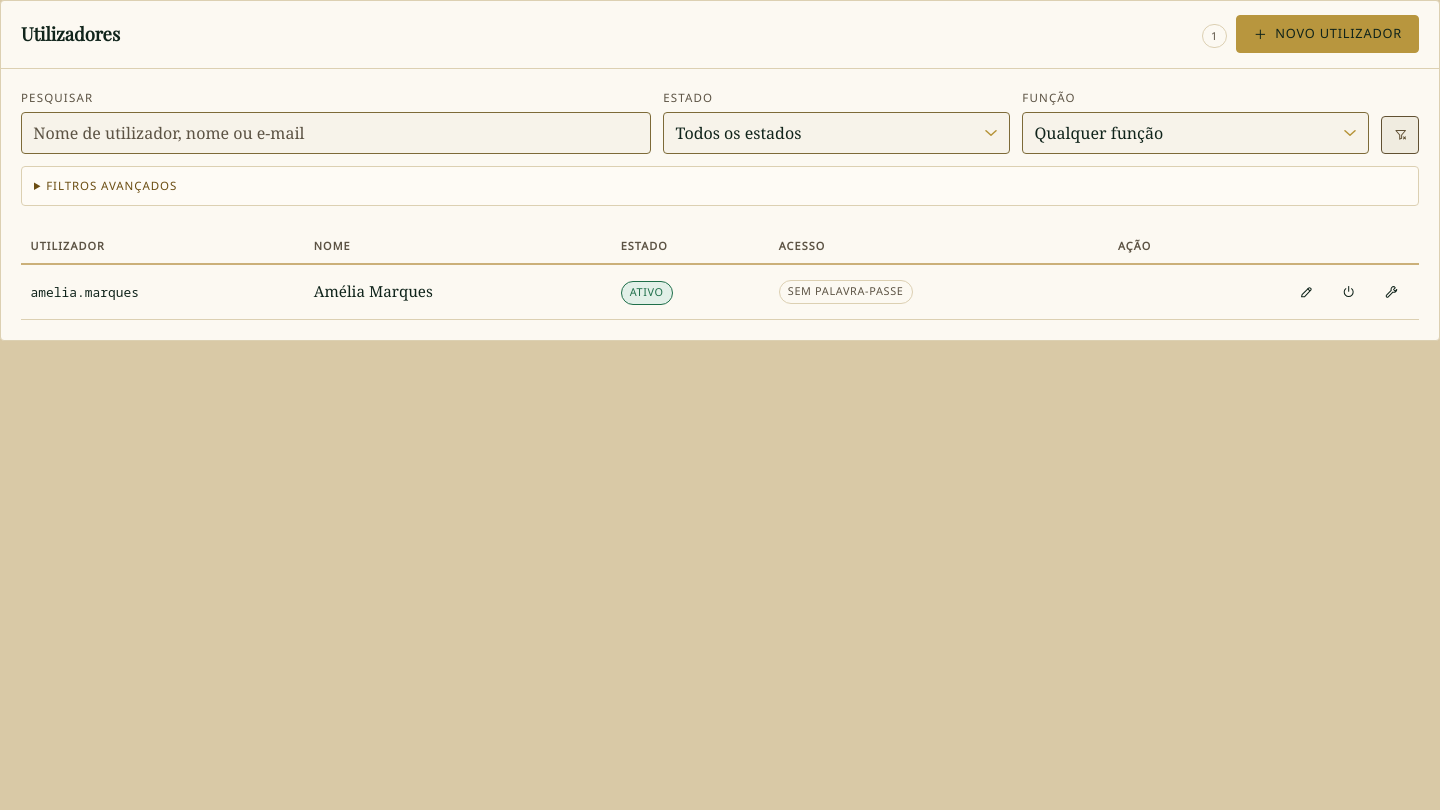
Test case: UsersList (Configurações → Utilizadores) › takes its strictness from the server policy rather than a hardcoded verdict
Expected: the text "amelia.marques" is shown, [31,283,139,301]
Click the button with test id "user-toggle-active" at (1349, 292), box [1331,274,1367,310]
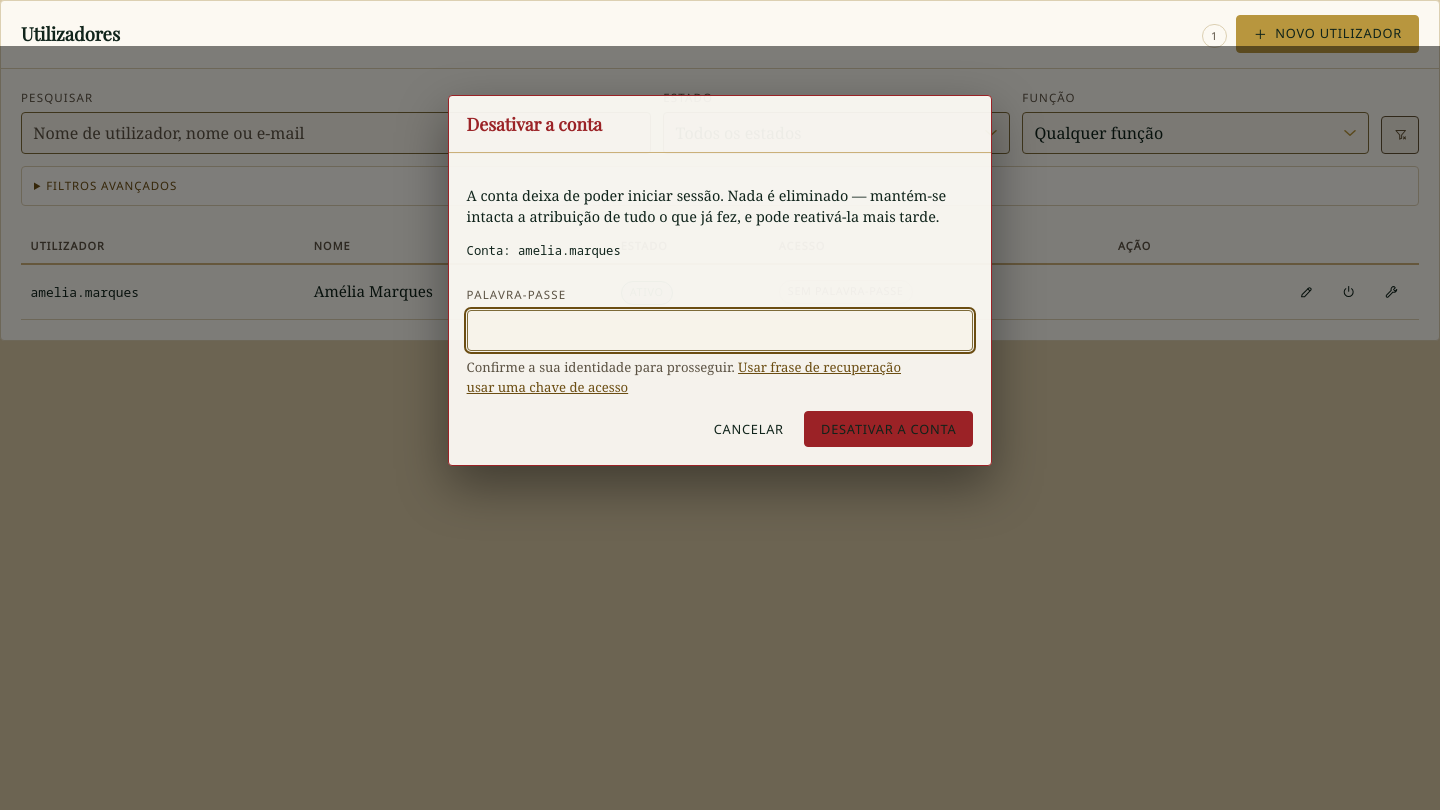
Expected: the password field labelled "Palavra-passe" is shown, [467,310,973,351]
Expected: the submit button is disabled, [804,411,973,447]
